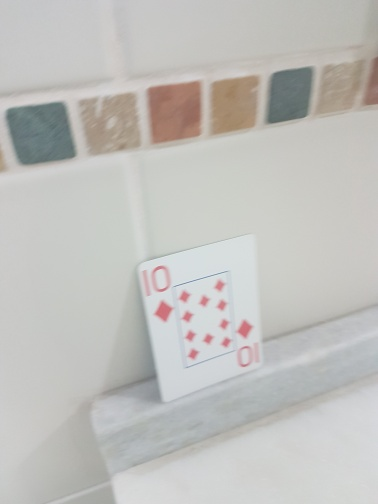ten: (137, 233, 267, 403)
